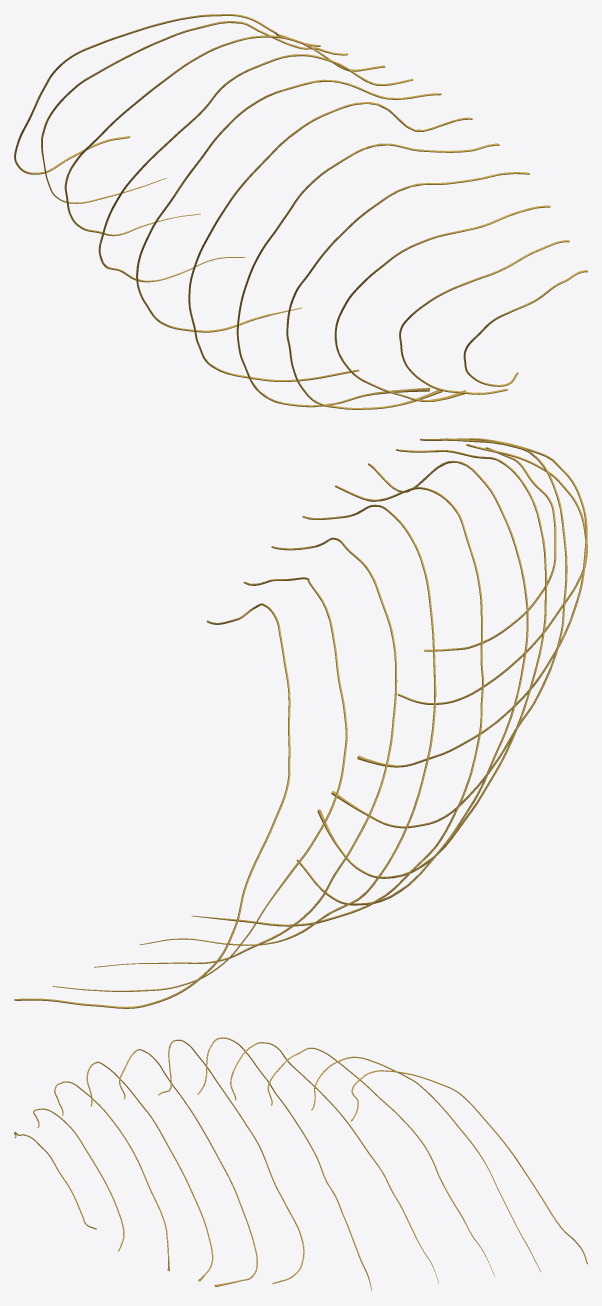
3 renders of one model, top to bottom at view 1: azimuth 30°, elevation 25°; view 2: azimuth 150°, elevation 25°; view 3: azimuth 270°, elevation 25°, orthographic. The views are drawn at different scales.
Visible parts, largest first — view 1: 右侧肋间神经; view 2: 右侧肋间神经; view 3: 右侧肋间神经.
Boxes of the visible parts, x1,y1,x2,y2 form: 右侧肋间神经: (14,14,587,409); 右侧肋间神经: (14,438,587,1008); 右侧肋间神经: (14,1037,587,1291).
Size of the model in its own units: 0.1844 by 0.2882 by 0.6685.
